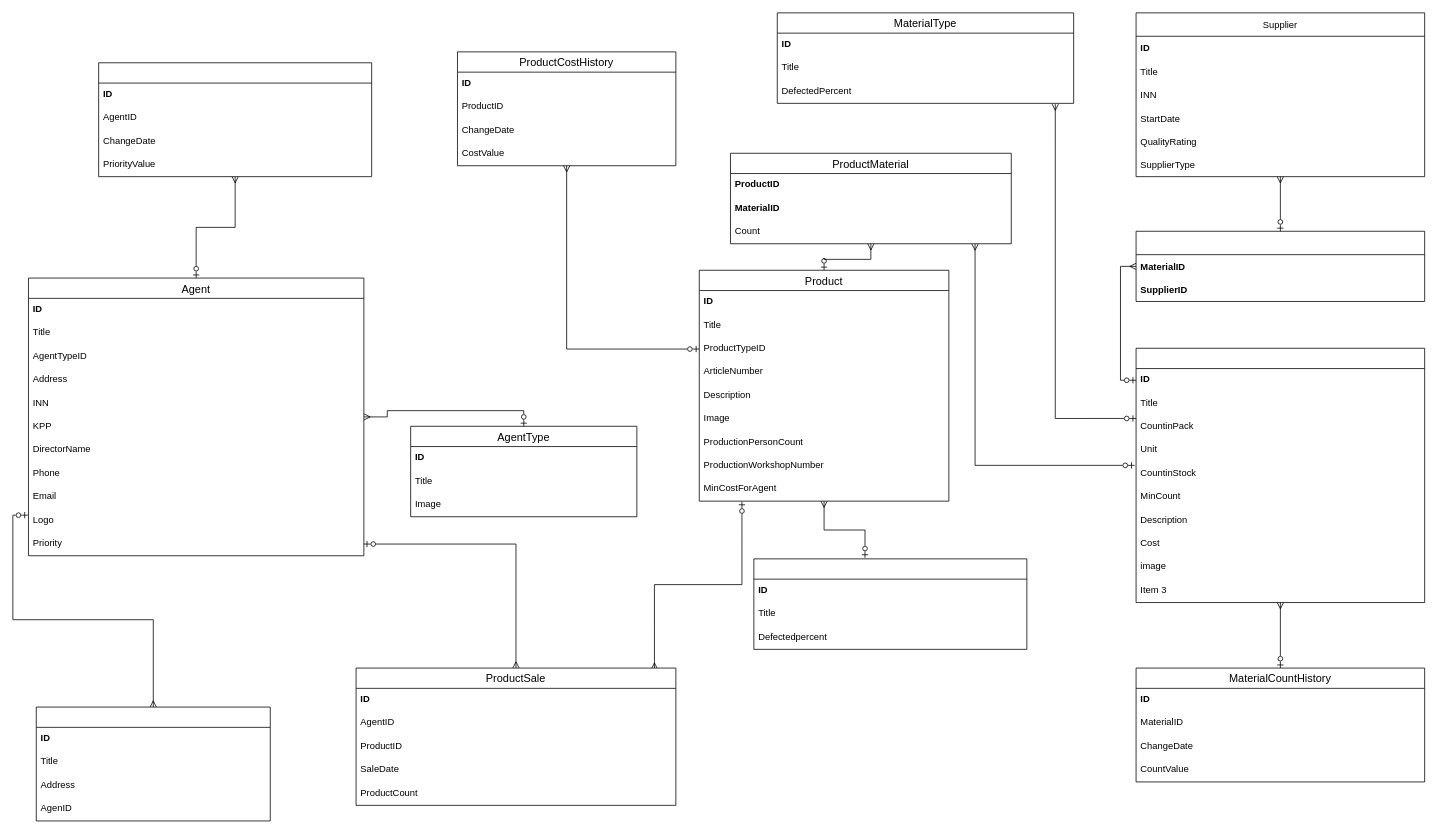
This 1438x834 diagram has some shape labels left out. The box of each missing label's shape, as (x1, y1, x2, y2) in pixels:
AgentPriorityHistory: (98, 62, 372, 177)
MateralSuppler: (1135, 230, 1425, 301)
Material: (1135, 347, 1425, 603)
ProductType: (753, 558, 1027, 649)
Shop: (35, 706, 270, 821)
